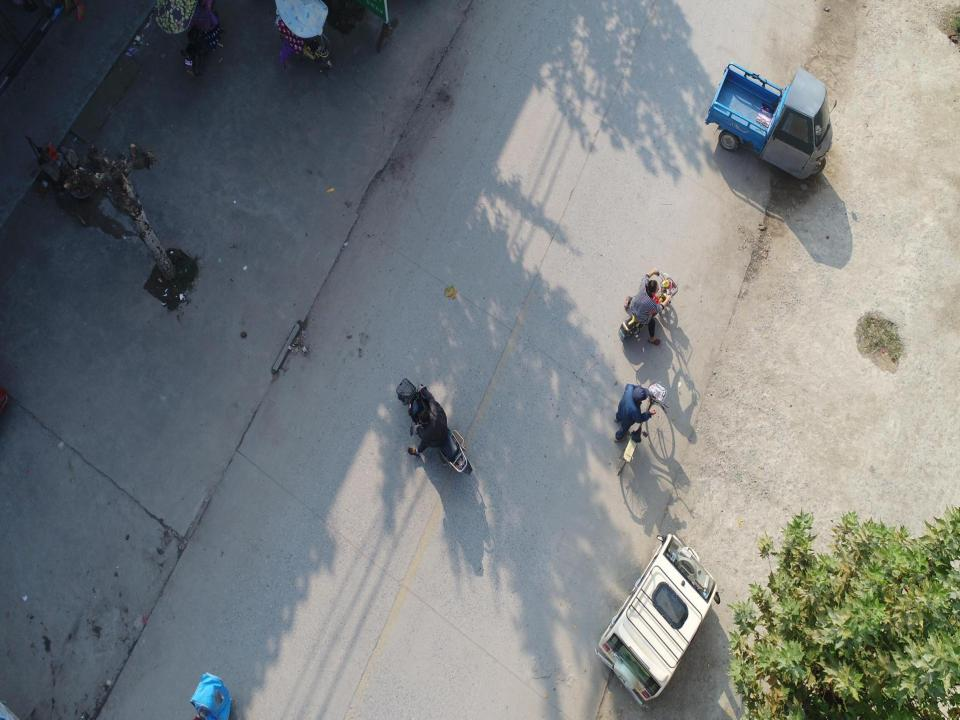van: (592, 530, 721, 708)
